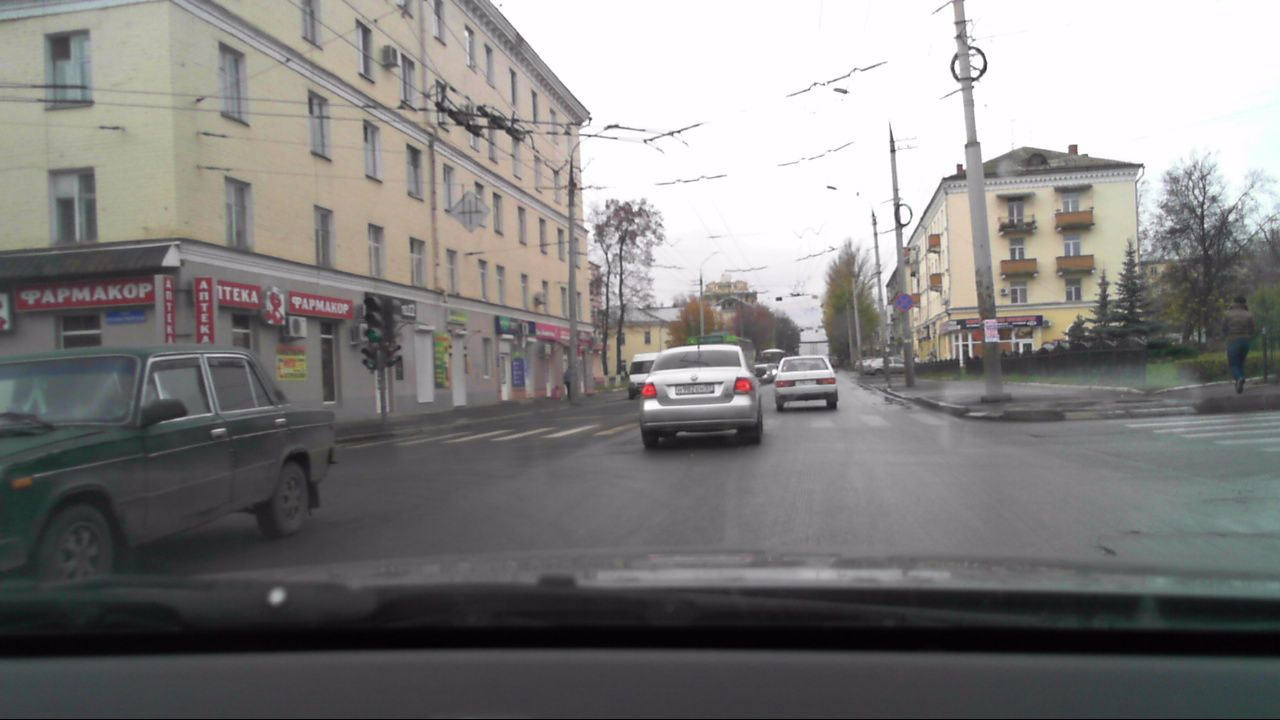No Parking: (891, 295, 912, 315)
